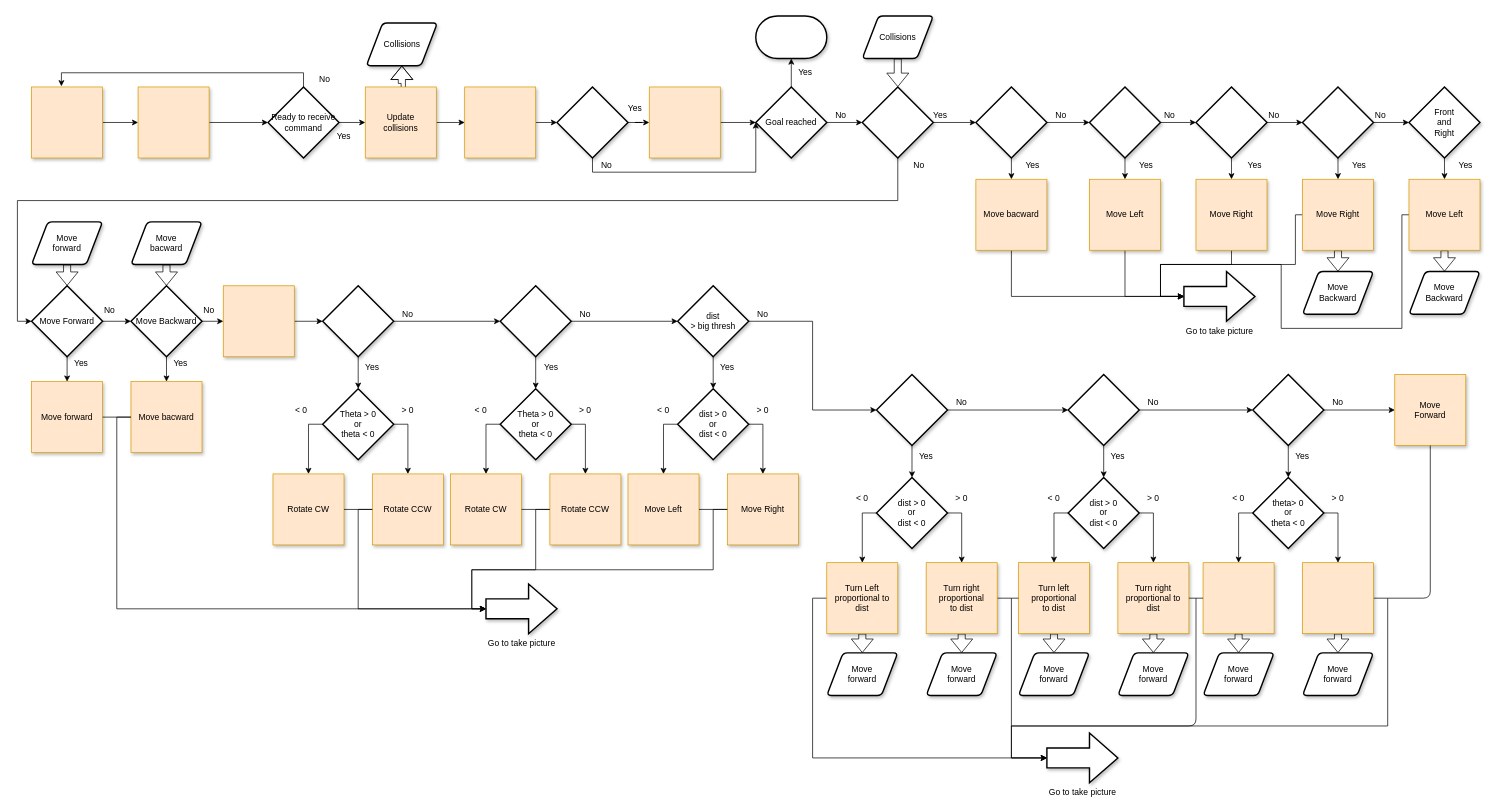
Some shapes in this 1497 by 809 pixel diagram are drawn without their labels. Each missing label, with the centre of its shape:
"Calculate theta and distance to line" belongs at (259,322).
"Calculate vectors" belongs at (500,123).
"Colliding" belongs at (898,123).
"dist > small thresh" belongs at (1104,411).
"dist and theta > small thresh" belongs at (912,411).
"Find Snake" belongs at (174,123).
"Front" belongs at (1012,123).
"Front and left" belongs at (1338,123).
"Left" belongs at (1232,123).
"Reached new node" belongs at (593,123).
"Right" belongs at (1125,123).
"Stop" belongs at (791,38).
"Take picture" belongs at (67,123).
"theta > big thresh" belongs at (536,322).
"theta > small thresh" belongs at (1288,411).
"theta and dist > big thresh" belongs at (358,322).
"Turn left using theta" belongs at (1239,599).
"Turn right using theta" belongs at (1338,599).
"Update line to follow" belongs at (685,123).
